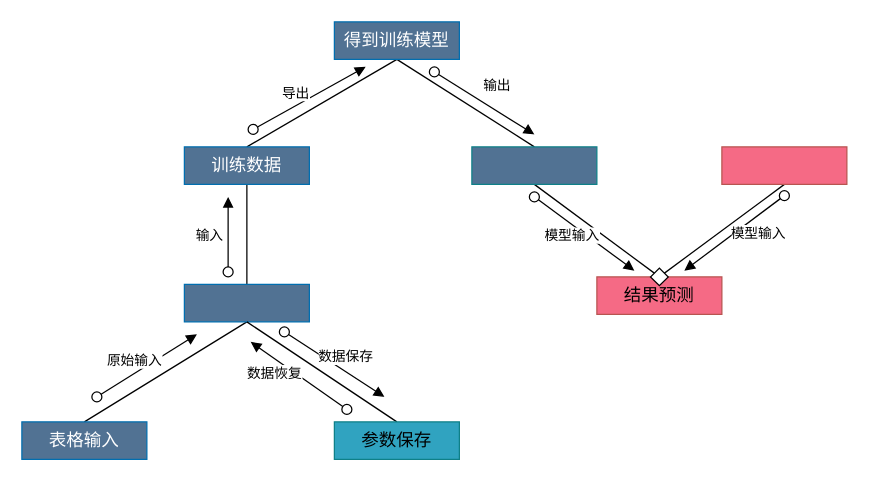
Some shapes in this 869 by 481 pixel diagram are drawn without their labels. The centre of each missing label's shape, as x and y in pixels:
数据预处理: [246,302]
本地模型输入: [784,165]
模型保存: [534,165]
